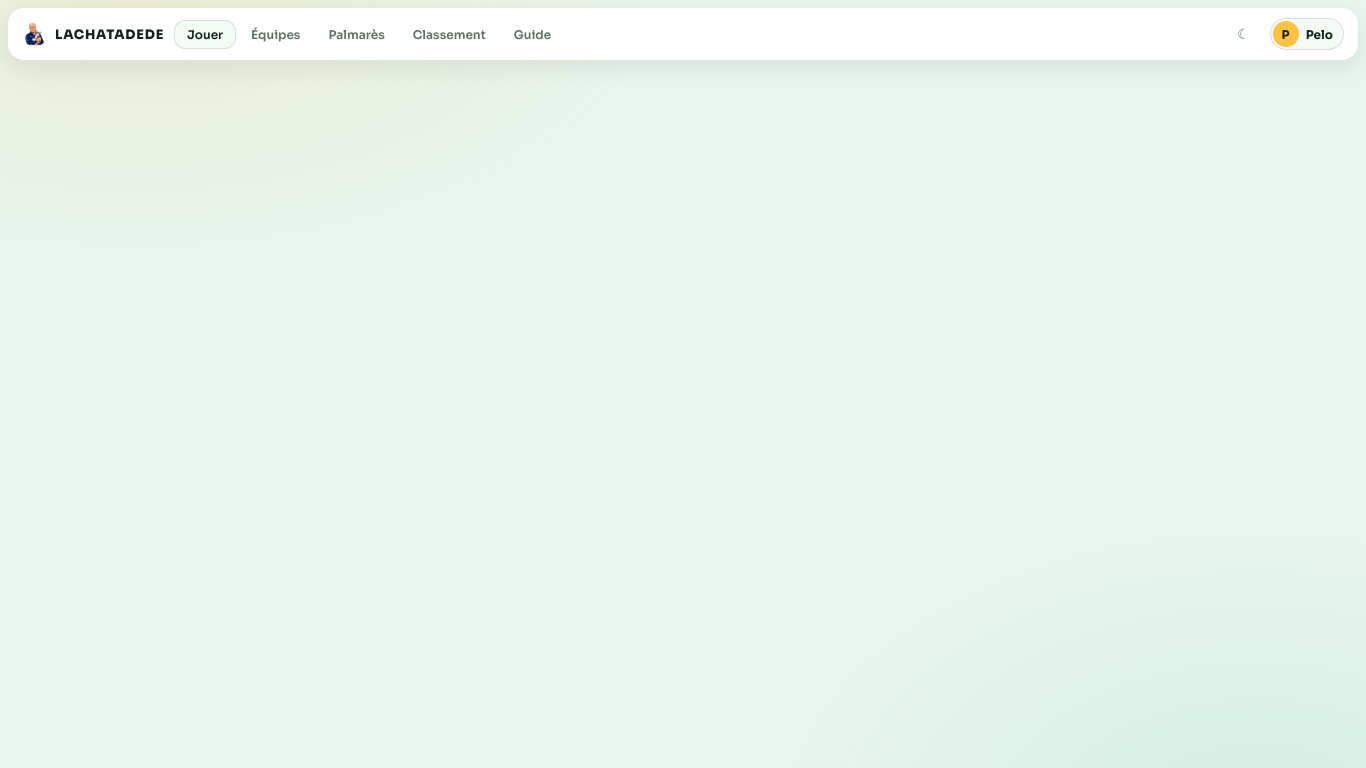
Test: Appbar Component › should open the user menu with email, points and logout
The image size is (1366, 768).
Step 1. Click the button with test id "user-menu" → (1307, 34), box [1270, 18, 1344, 50]
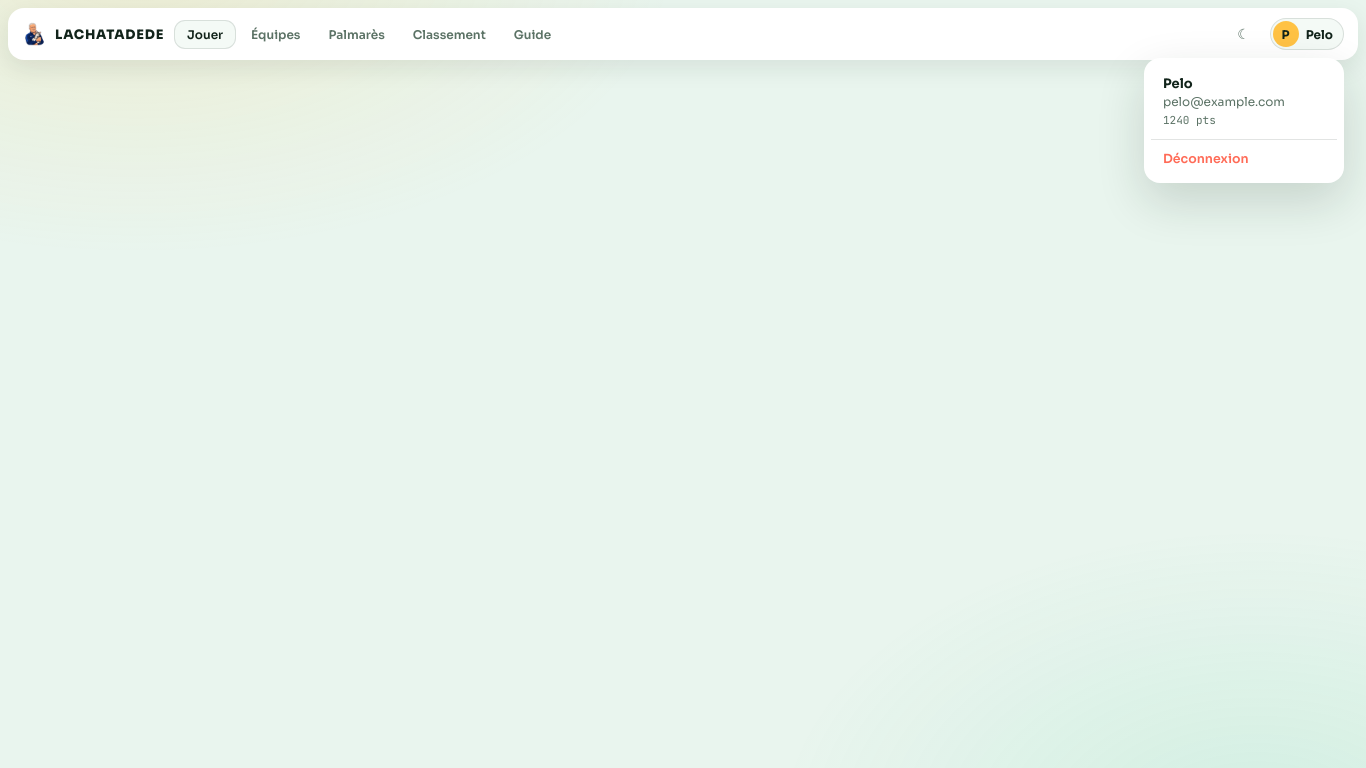
Expected: the text "pelo@example.com" is shown, [1163, 94, 1285, 109]
Expected: the text "1240 pts" is shown, [1163, 113, 1216, 127]
Expected: the menu item with test id "logout-button" is shown, [1151, 142, 1337, 176]
